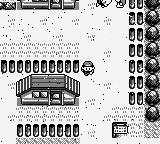leer: (112, 122, 127, 137)
main: (81, 61, 96, 76)
no-caminable: (16, 74, 80, 105), (144, 0, 160, 123), (128, 0, 143, 104), (1, 59, 79, 73), (17, 123, 79, 137), (18, 0, 48, 9), (62, 0, 78, 9)
npc: (96, 0, 112, 8), (114, 0, 127, 8)
puerta: (50, 92, 62, 105), (50, 0, 62, 9)
salto: (1, 2, 16, 10)
